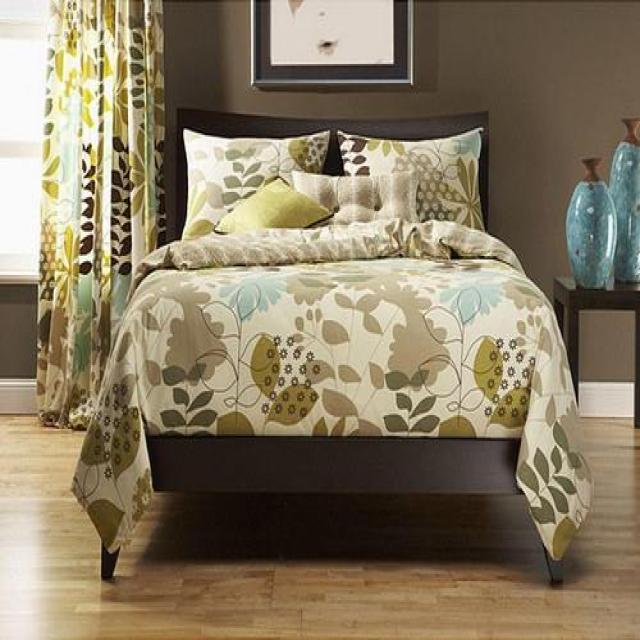bed: (74, 110, 595, 588)
